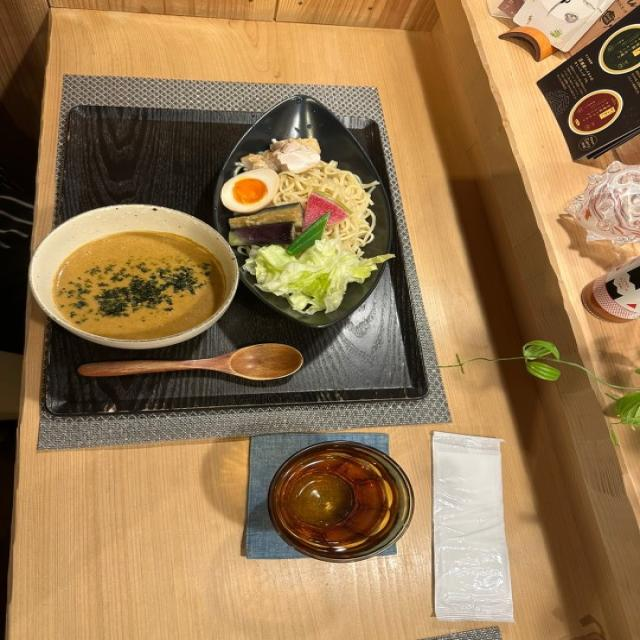Bowl: (28, 203, 240, 350), (265, 439, 415, 563)
Plate: (211, 93, 392, 328)
